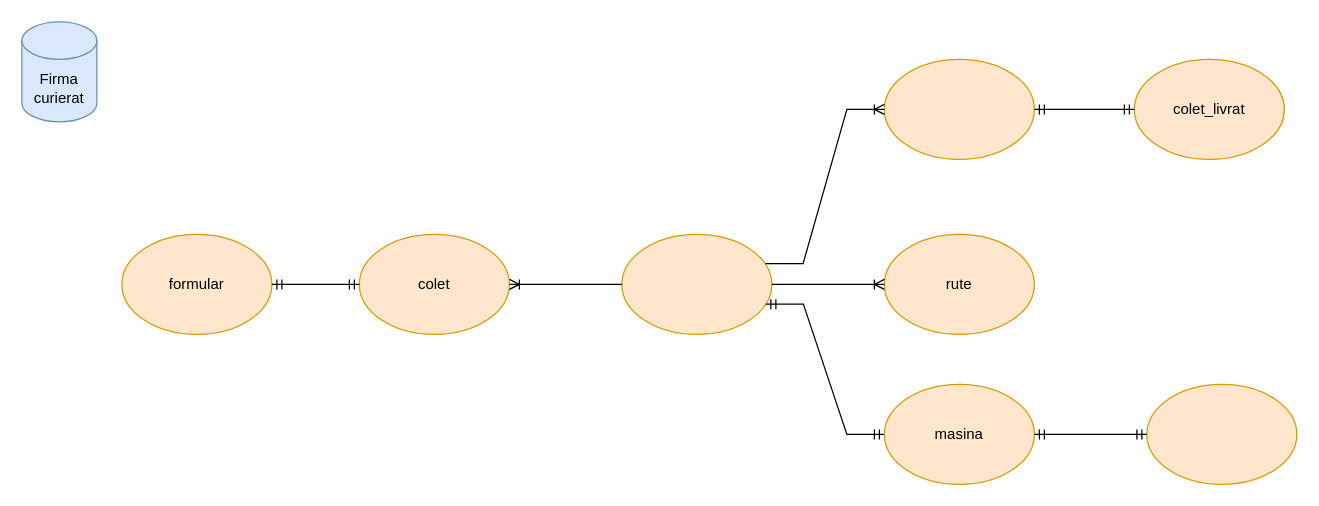
This 1319x506 diagram has some shape labels left out. The box of each missing label's shape, as (x1, y1, x2, y2) in pixels:
colet_preluat: (883, 58, 1034, 159)
curier: (621, 233, 772, 334)
evidenta_combustibil: (1146, 383, 1297, 484)
